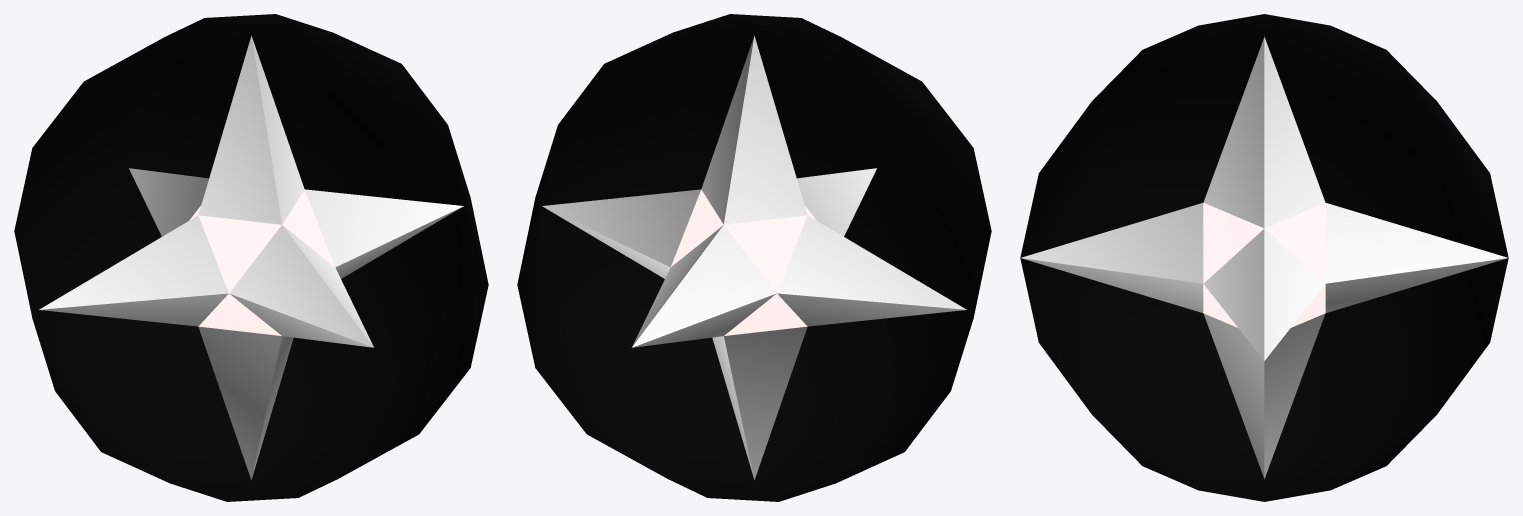
The model's file is player.glb.
3 views of the same model, side by side, from view 1: azimuth 30°, elevation 25°; view 2: azimuth 150°, elevation 25°; view 3: azimuth 270°, elevation 25° (orthographic).
Visible parts, largest first — view 1: obj2, obj1; view 2: obj2, obj1; view 3: obj2, obj1.
Boxes of the visible parts, bbox=[...] form: obj2: bbox=[14, 14, 488, 501]; obj1: bbox=[39, 35, 463, 480]; obj2: bbox=[517, 14, 991, 501]; obj1: bbox=[542, 35, 966, 480]; obj2: bbox=[1020, 14, 1508, 501]; obj1: bbox=[1021, 37, 1507, 478].
Bounding box in the file's own units: 0.2 × 0.2 × 0.2.
